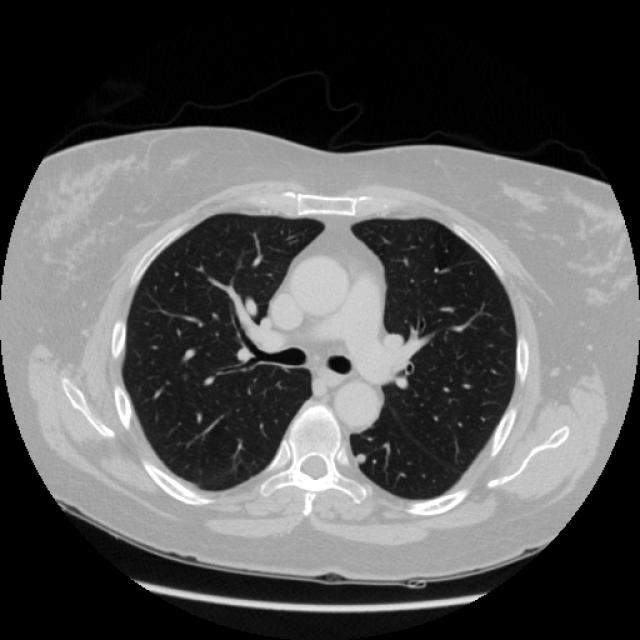nodule: (348, 445, 372, 470)
